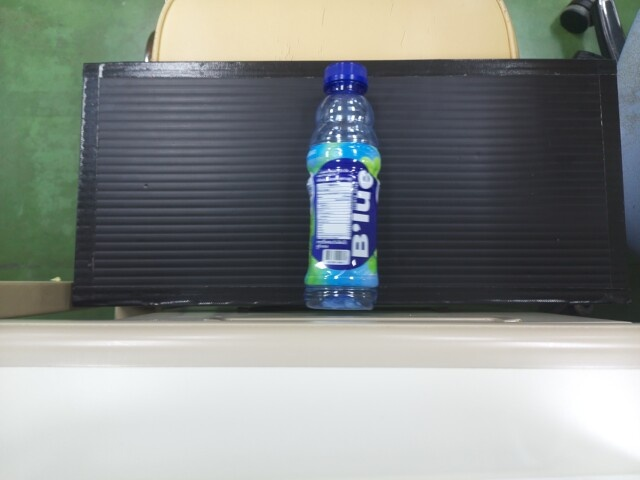plastic_bottle: (303, 60, 379, 306)
